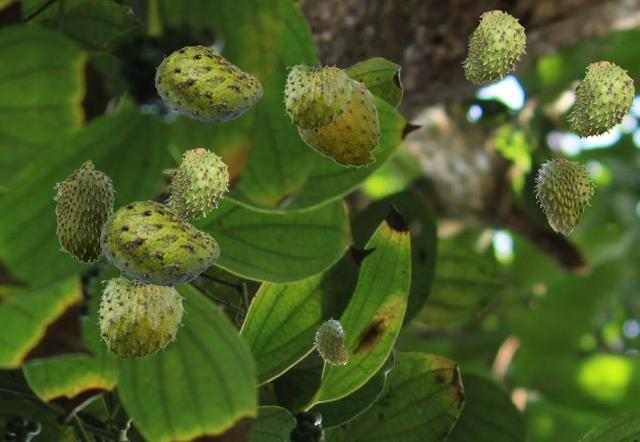guyabano: (99, 200, 219, 286), (154, 45, 262, 122), (96, 274, 186, 359), (296, 78, 380, 168), (53, 159, 115, 263), (566, 61, 634, 138), (282, 61, 354, 129), (533, 158, 595, 235), (164, 148, 228, 221), (461, 10, 525, 83), (313, 317, 349, 368)
